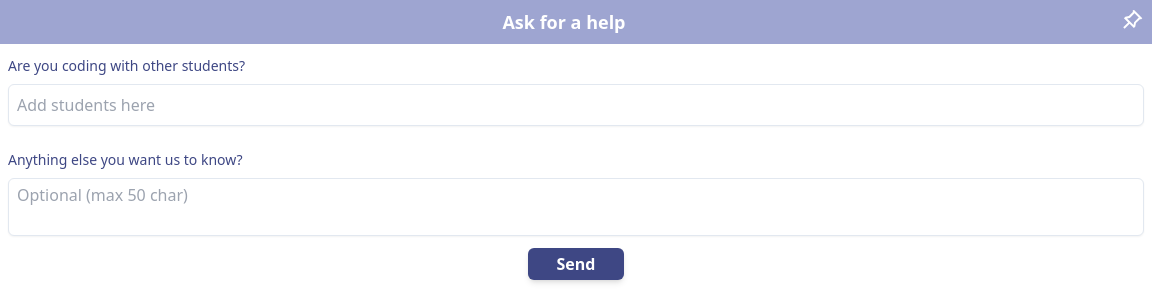
it: toggles student list on click
The image size is (1152, 301).
Click the field with placeholder "Add students here". click: {"x": 576, "y": 105}
box: [8,84,1144,126]
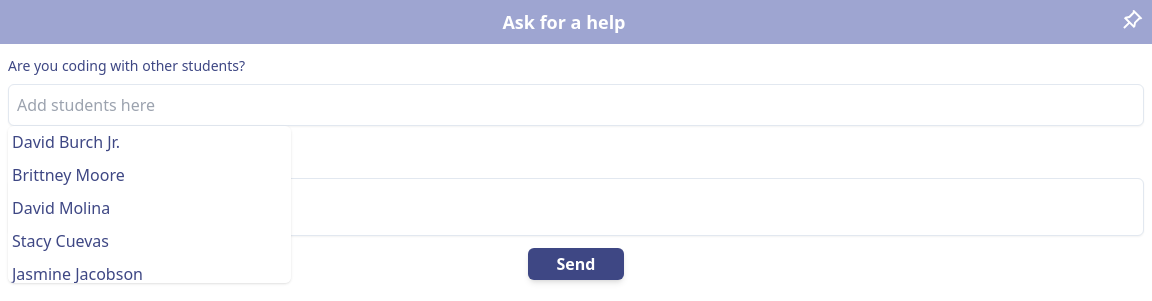
Expected: the element with test id "student-list" is shown, [8,126,291,283]
Click the field with placeholder "Add students here". click: {"x": 576, "y": 105}
box: [8,84,1144,126]
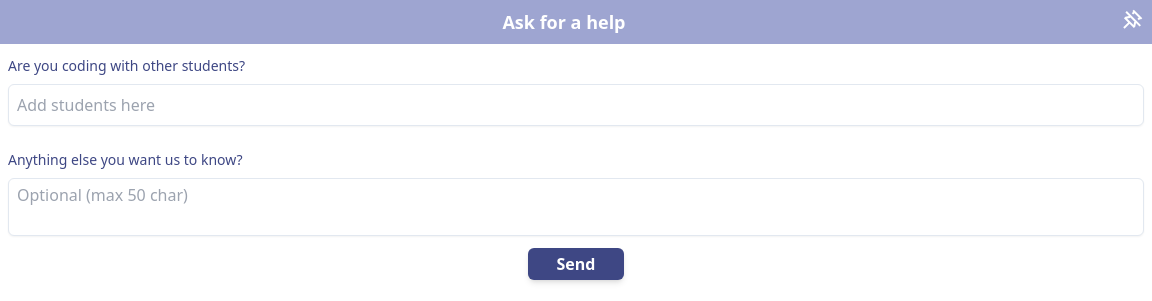
Expected: the element with test id "student-list" is gone
